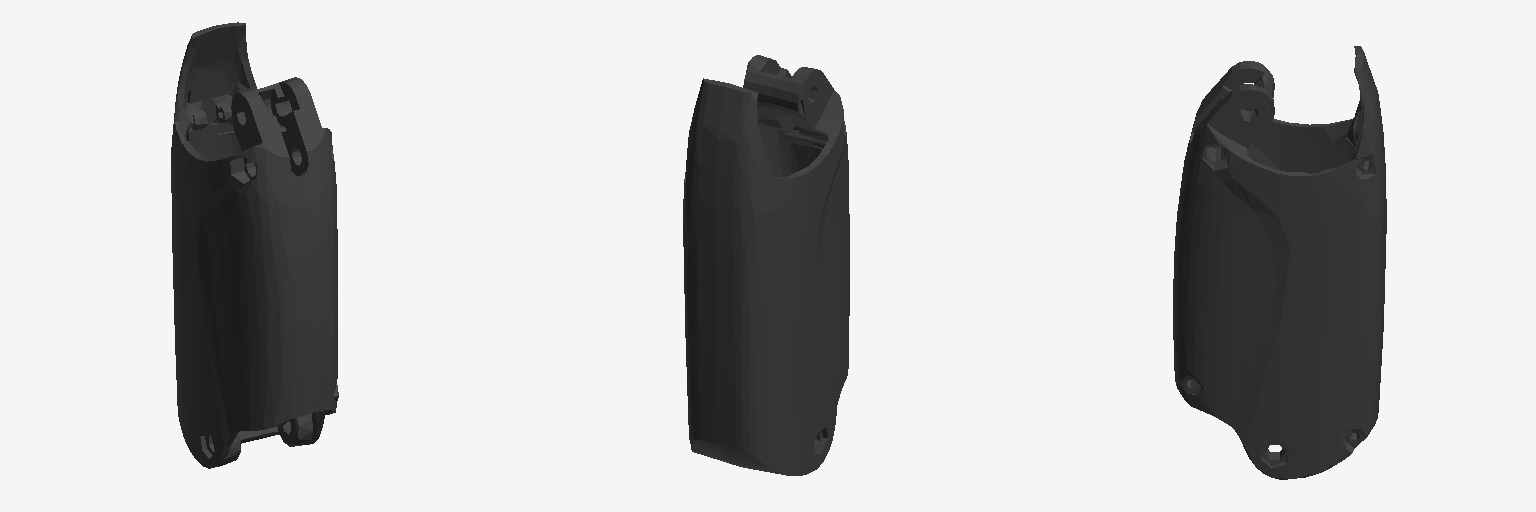
The model's file is R_thumb_proximal.obj.
3 views of the same model, side by side, from view 1: azimuth 30°, elevation 25°; view 2: azimuth 150°, elevation 25°; view 3: azimuth 270°, elevation 25° (orthographic).
Size of the model in its own units: 0.0194 by 0.0673 by 0.0326.